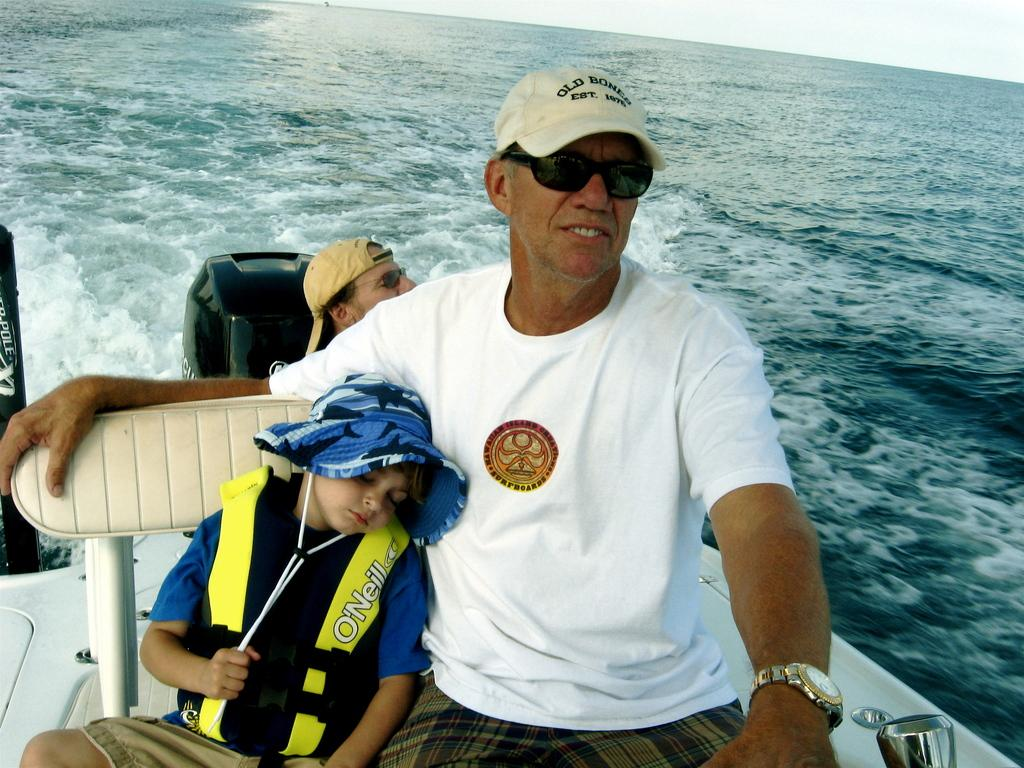Hat: (210, 366, 466, 728), (491, 66, 666, 174), (302, 235, 397, 354)
